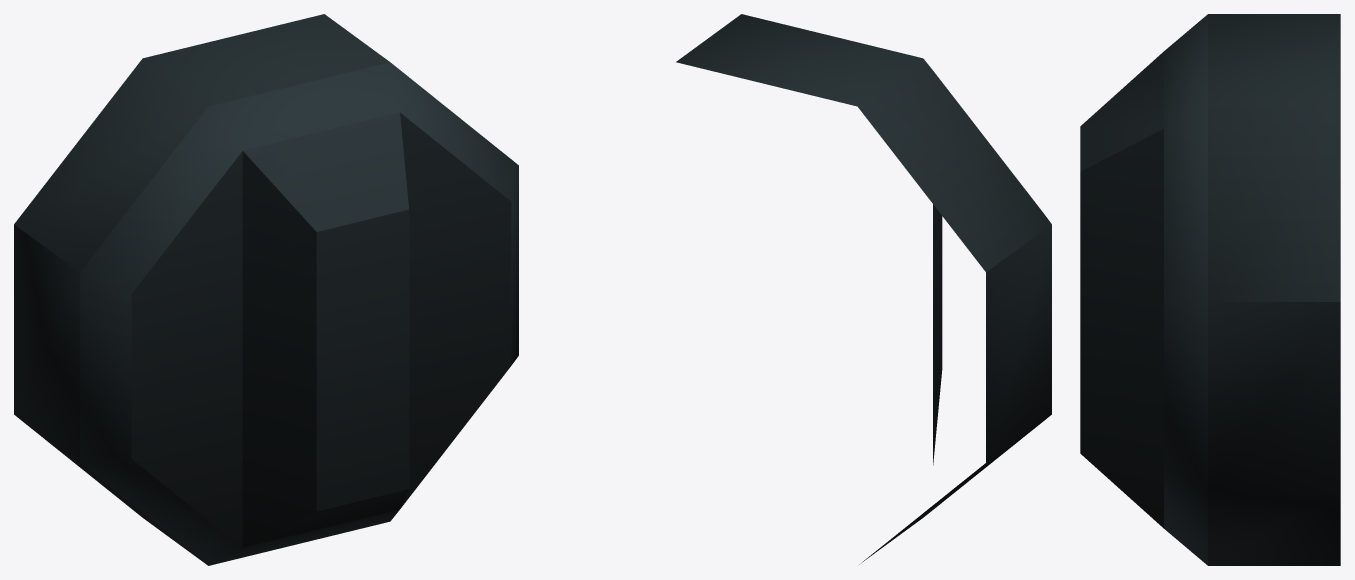
The model's file is knob.gltf.
The picture shows the model from 3 angles, left to right: view 1: azimuth 30°, elevation 25°; view 2: azimuth 150°, elevation 25°; view 3: azimuth 270°, elevation 25°; orthographic projection.
Visible parts, largest first — view 1: oven; view 2: oven; view 3: oven.
Part boxes in pixels (x1,y1,x2,y2): oven: (14,14,518,565); oven: (676,14,1051,564); oven: (1080,14,1340,565).
Size of the model in its own units: 0.231 by 0.231 by 0.1179.
1 material, 1 textured.
